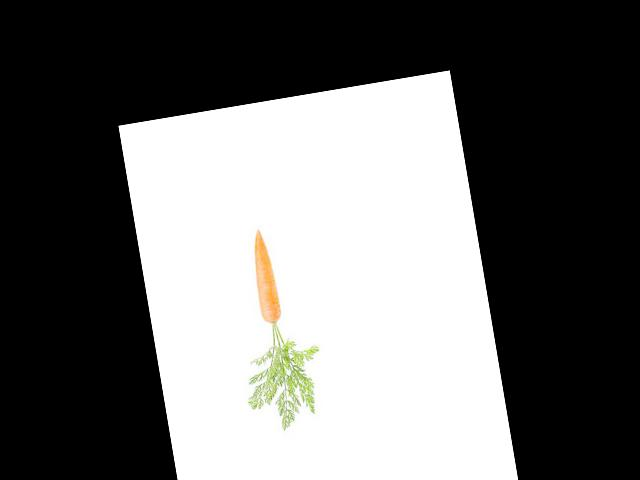carrot: (243, 223, 289, 330)
